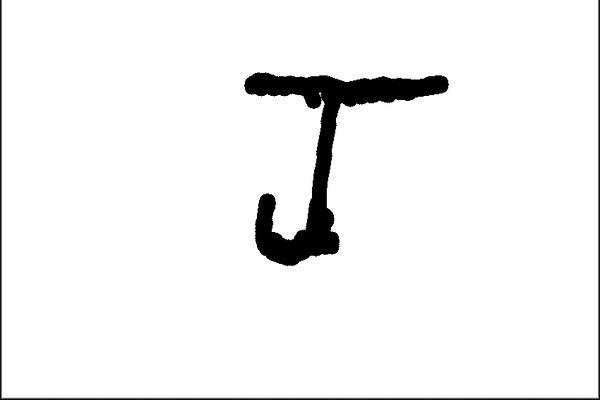J: (234, 60, 453, 271)
